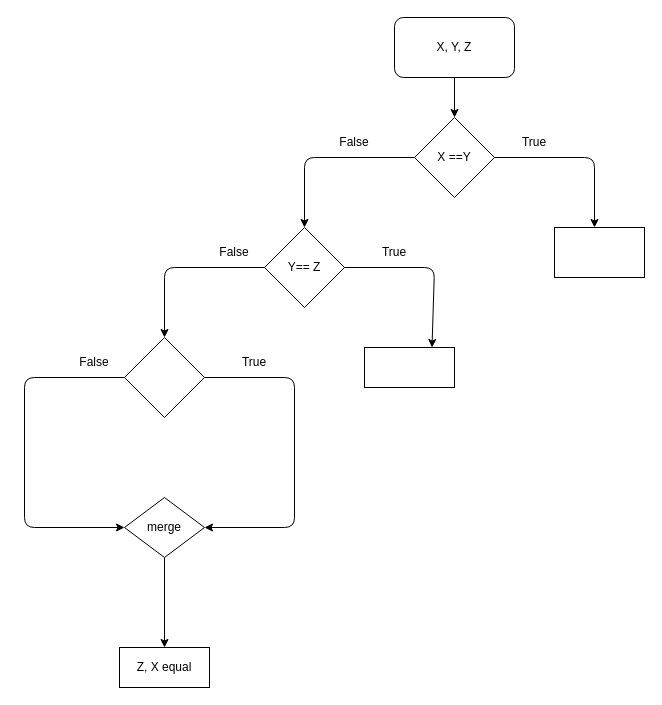
The diagram is 662 pixels wide and 705 high, and some of its shapes have lost their labels. The centre of each missing label's shape, as x and y in pixels:
X, Y equal: the point at 599,252
Y, Z equal: the point at 409,367
Z == X: the point at 164,377
